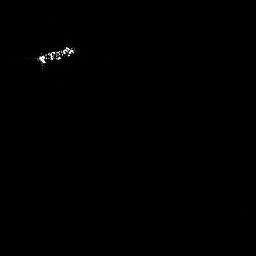ship: (38, 45, 74, 65)
